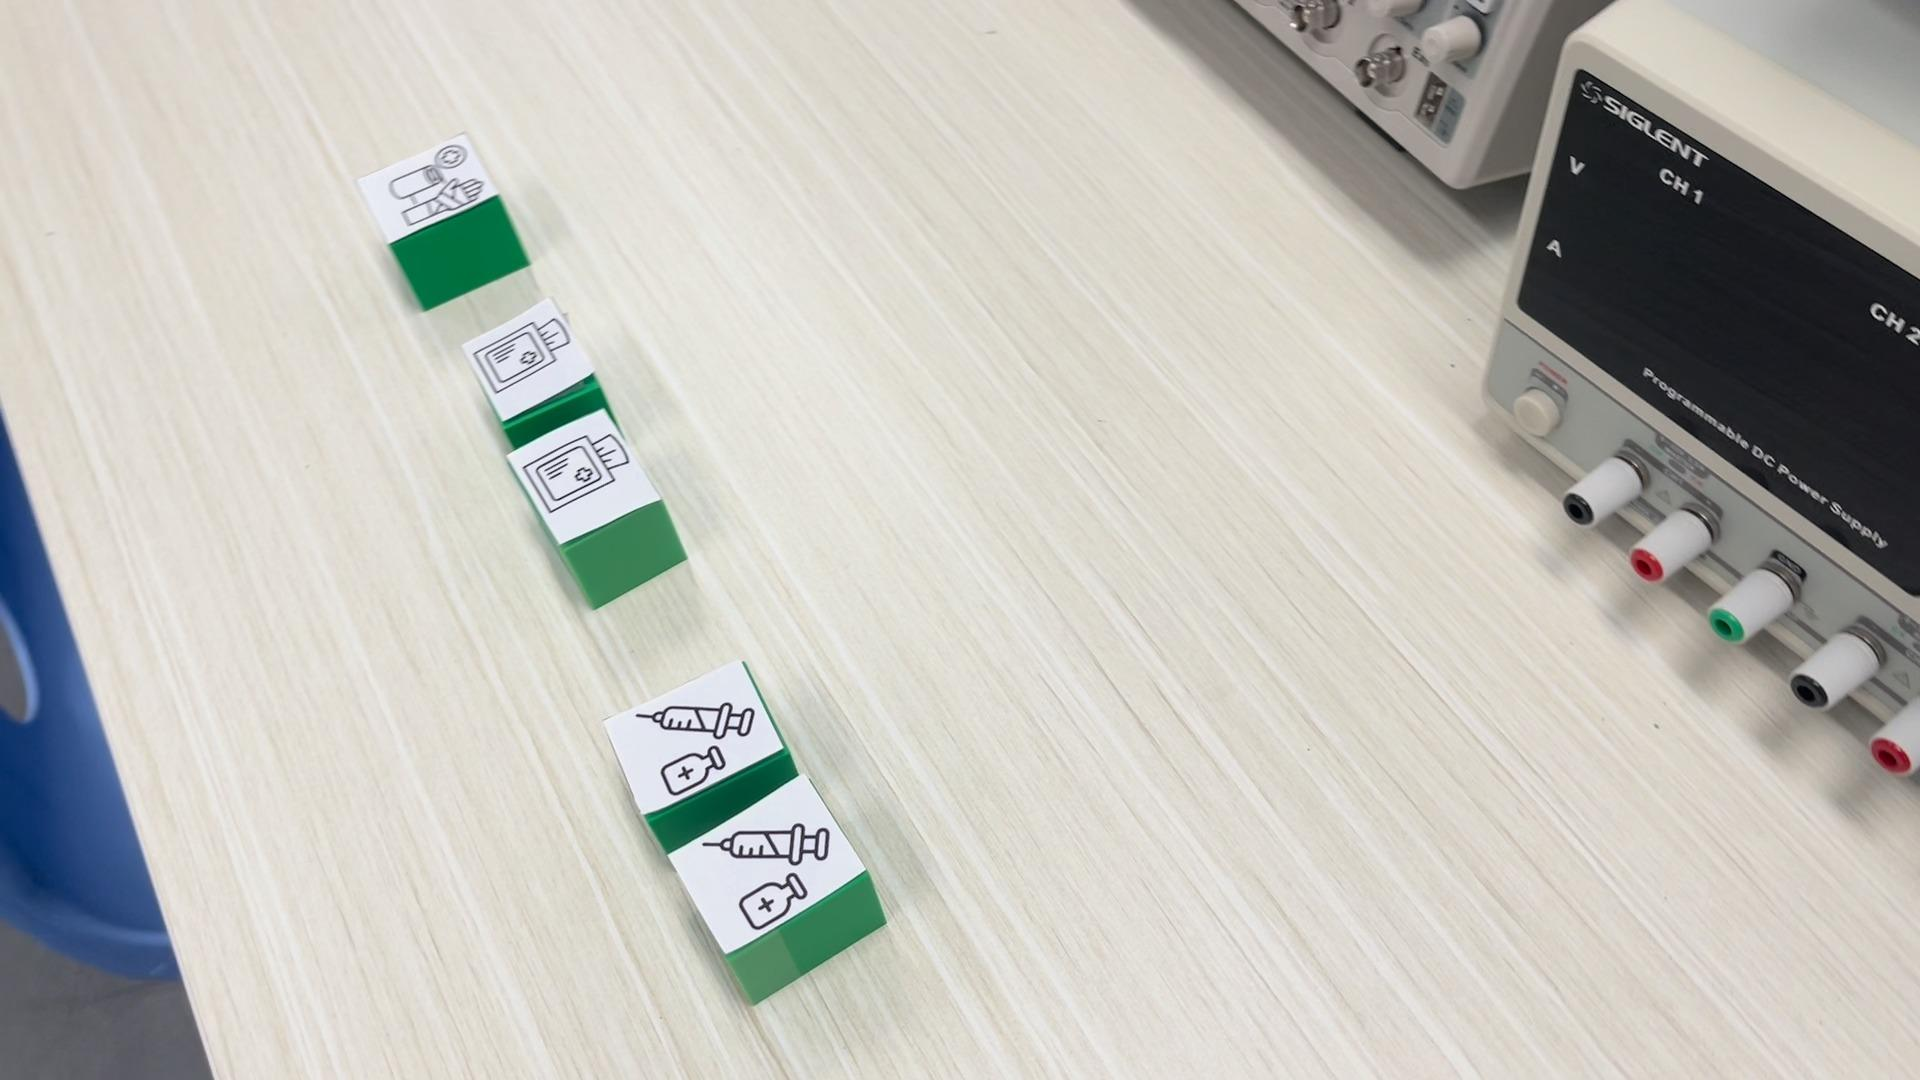Bandages: (353, 131, 531, 311)
Gauze: (504, 411, 691, 609), (463, 302, 601, 429)
antiseptic cream: (640, 770, 889, 1004), (604, 655, 802, 824)
